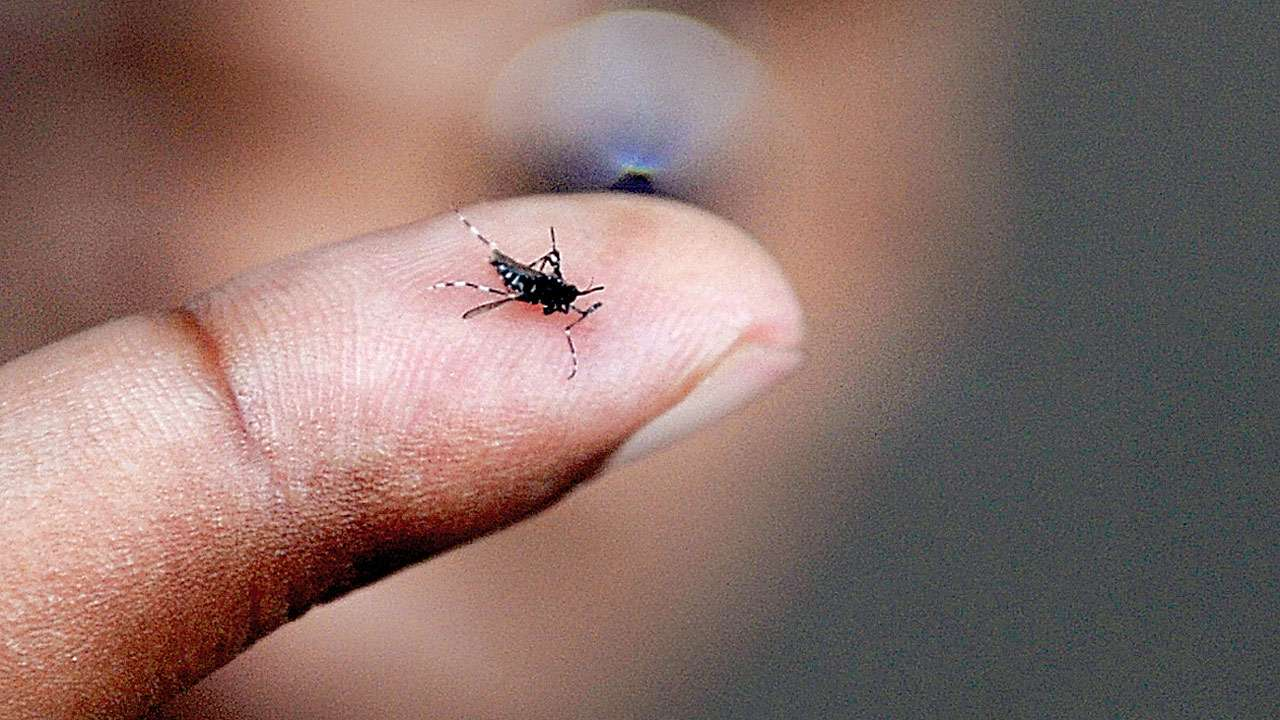dengue_mosquito: (427, 203, 604, 379)
